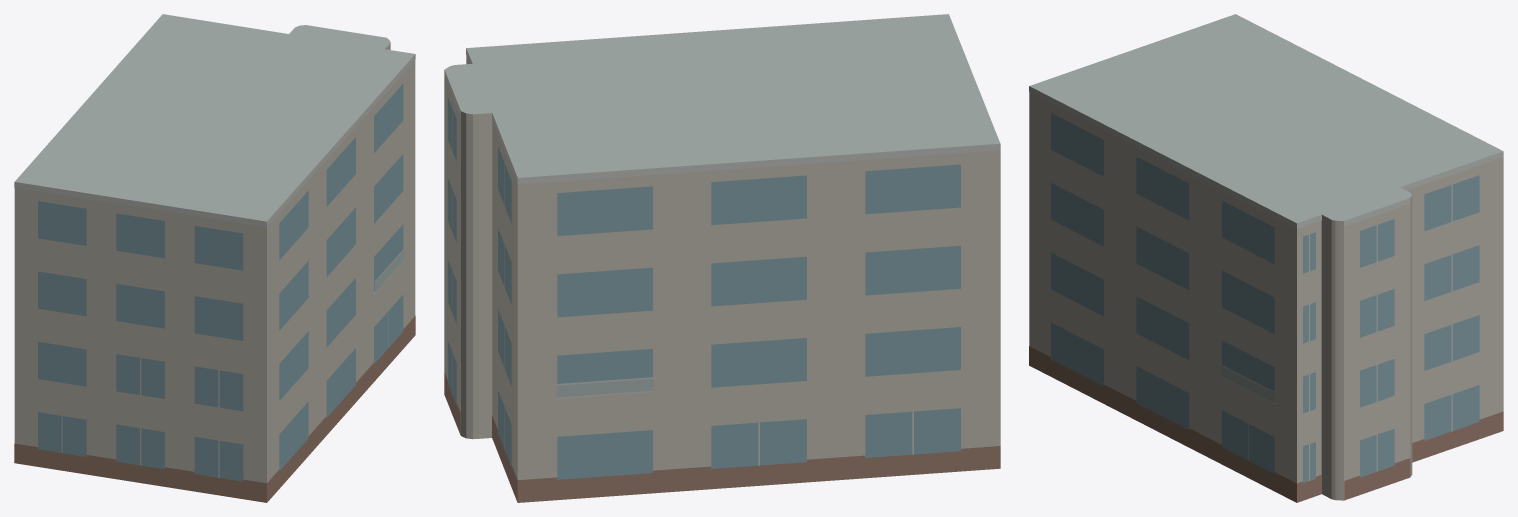
File: survey-upis-32867122.glb
3 renders of one model, left to right at view 1: azimuth 30°, elevation 25°; view 2: azimuth 150°, elevation 25°; view 3: azimuth 270°, elevation 25°, orthographic. The views are drawn at different scales.
Visible parts, largest first — view 1: survey-upis-32867122.tmp; view 2: survey-upis-32867122.tmp; view 3: survey-upis-32867122.tmp.
Part boxes in pixels (x1,y1,x2,y2): survey-upis-32867122.tmp: (14, 14, 415, 502); survey-upis-32867122.tmp: (444, 14, 1000, 502); survey-upis-32867122.tmp: (1029, 14, 1503, 502).
Size of the model in its own units: 19.16 by 11.93 by 18.35.
